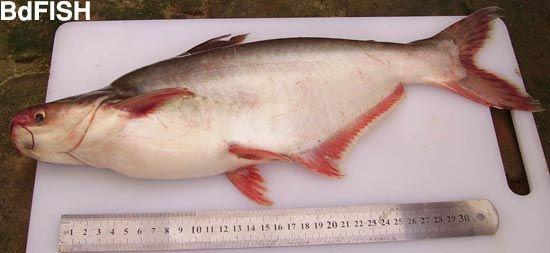Pangasius: (10, 4, 546, 211)
